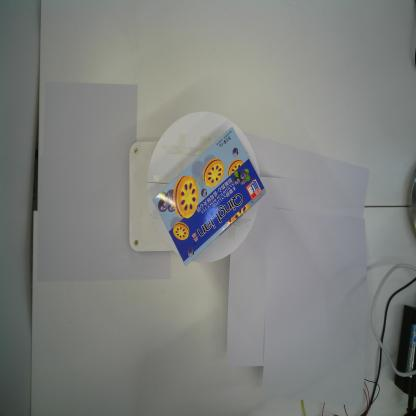Dessert: (152, 126, 268, 267)
